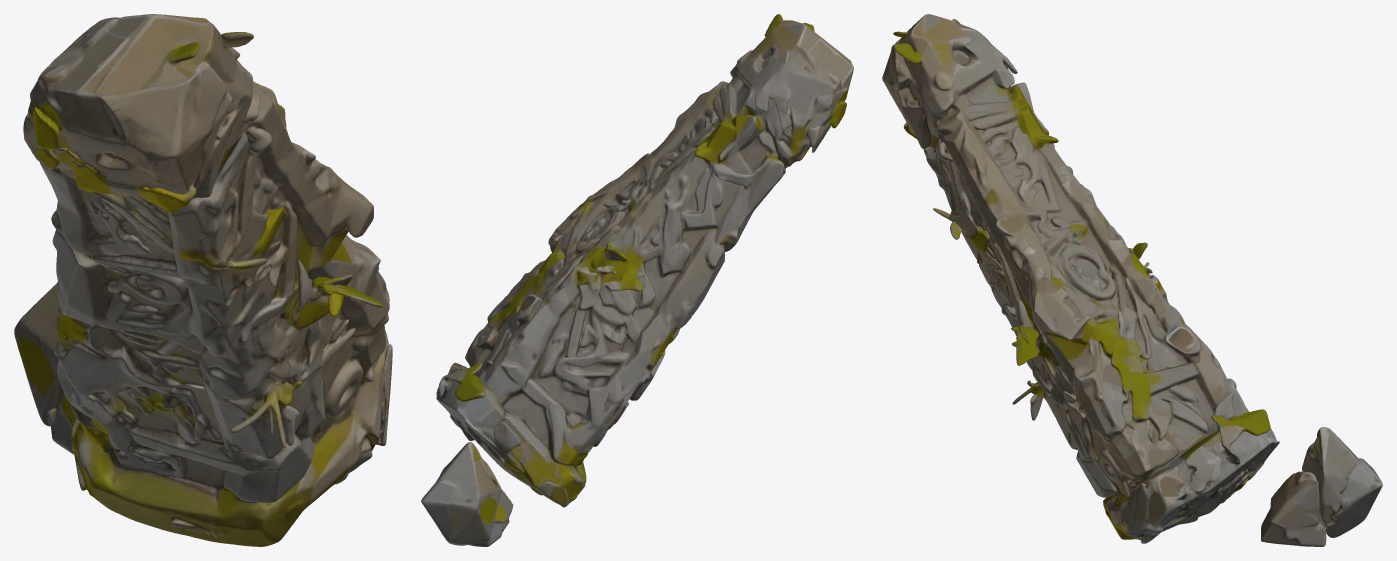
Rendered from ruin_obelisk.glb.
3 renders of one model, left to right at view 1: azimuth 30°, elevation 25°; view 2: azimuth 150°, elevation 25°; view 3: azimuth 270°, elevation 25°, orthographic. The views are drawn at different scales.
Visible parts, largest first — view 1: tripo_node_ded00d01-6337-47b4-a5c8-720d79afb4ae; view 2: tripo_node_ded00d01-6337-47b4-a5c8-720d79afb4ae; view 3: tripo_node_ded00d01-6337-47b4-a5c8-720d79afb4ae.
Part boxes in pixels (x1,y1,x2,y2): tripo_node_ded00d01-6337-47b4-a5c8-720d79afb4ae: (14,14,392,546); tripo_node_ded00d01-6337-47b4-a5c8-720d79afb4ae: (421,14,853,546); tripo_node_ded00d01-6337-47b4-a5c8-720d79afb4ae: (882,14,1382,546).
Size of the model in its own units: 0.7413 by 0.9846 by 1.
1 material, 1 textured.
